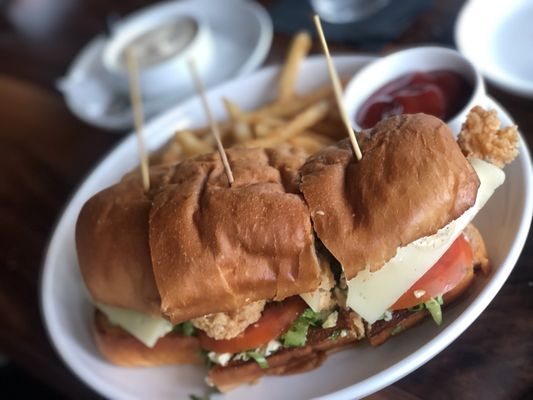soup: (75, 148, 368, 394), (293, 111, 499, 346)
